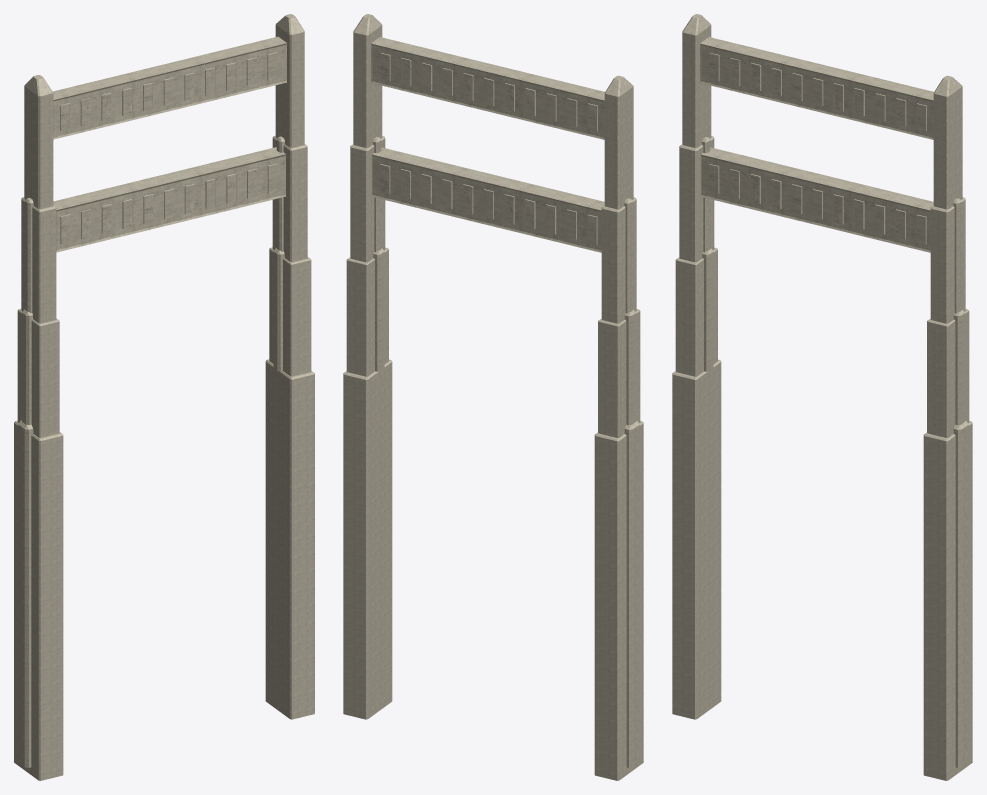
File: SuspBridgePillarSmall-6L.FBX
3 renders of one model, left to right at view 1: azimuth 30°, elevation 25°; view 2: azimuth 150°, elevation 25°; view 3: azimuth 330°, elevation 25°, orthographic.
Parts seen in each view (by area): view 1: SuspPillarSmall-6L; view 2: SuspPillarSmall-6L; view 3: SuspPillarSmall-6L.
Part boxes in pixels (x1,y1,x2,y2): SuspPillarSmall-6L: [14, 14, 314, 780]; SuspPillarSmall-6L: [343, 14, 643, 780]; SuspPillarSmall-6L: [672, 14, 972, 780].
Bounding box in the file's own units: 60.53 × 140 × 9.6.
